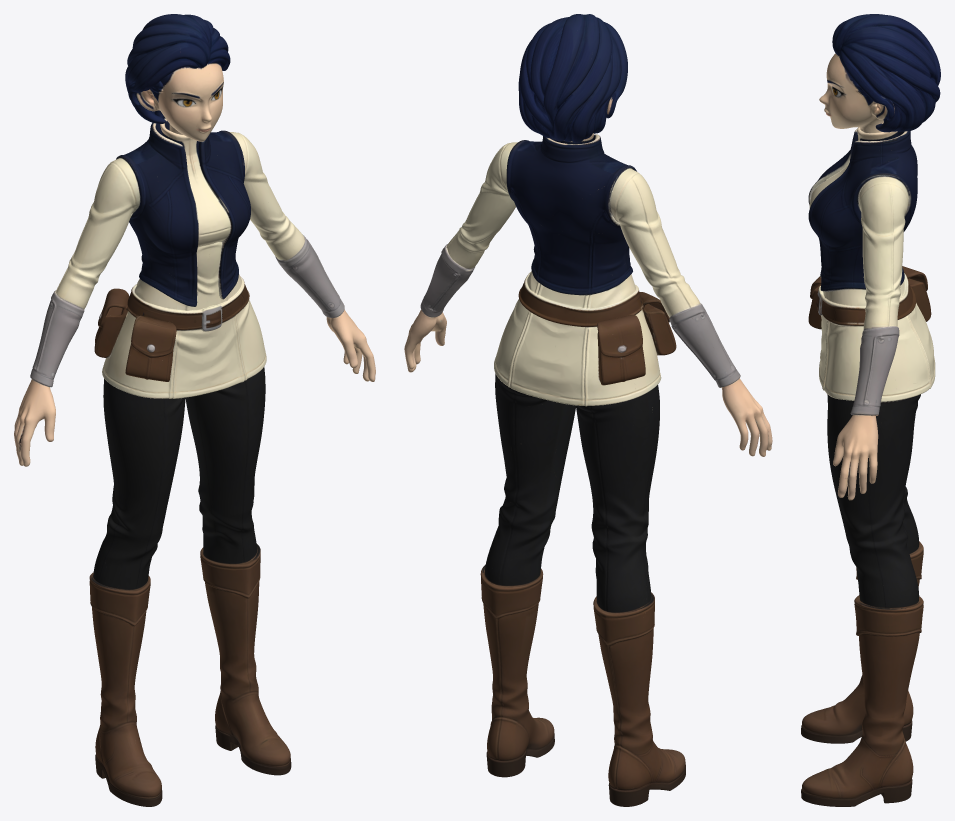
The model's file is chr_001_anime_espadachim_v002.glb.
3 views of the same model, side by side, from view 1: azimuth 30°, elevation 25°; view 2: azimuth 150°, elevation 25°; view 3: azimuth 270°, elevation 25° (orthographic).
Size of the model in its own units: 0.9937 by 2 by 0.3384.
Materials: 1 (1 with a texture image).
